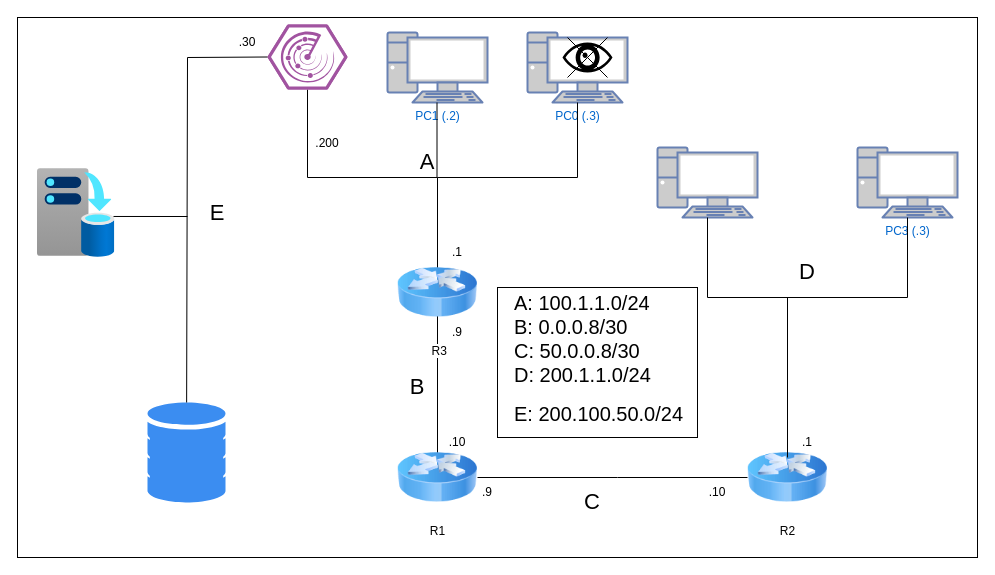
Some shapes in this 995 by 575 pixel diagram are drawn without their labels. The centre of each missing label's shape, as x and y in pixels:
"Diode (.20)" goes at pixel 75 212.
"Discovery Tool" goes at pixel 307 57.
"NetBox (.2)" goes at pixel 186 452.
"PC2 (.2)" goes at pixel 707 182.
